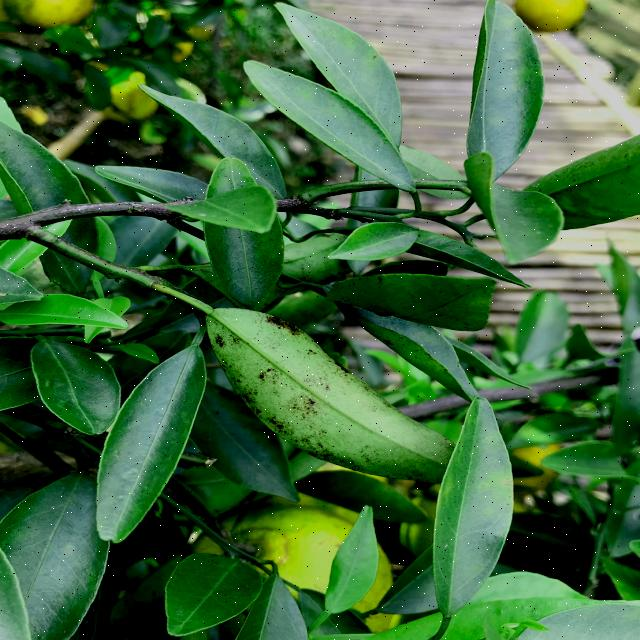melanose: (199, 302, 458, 486)
